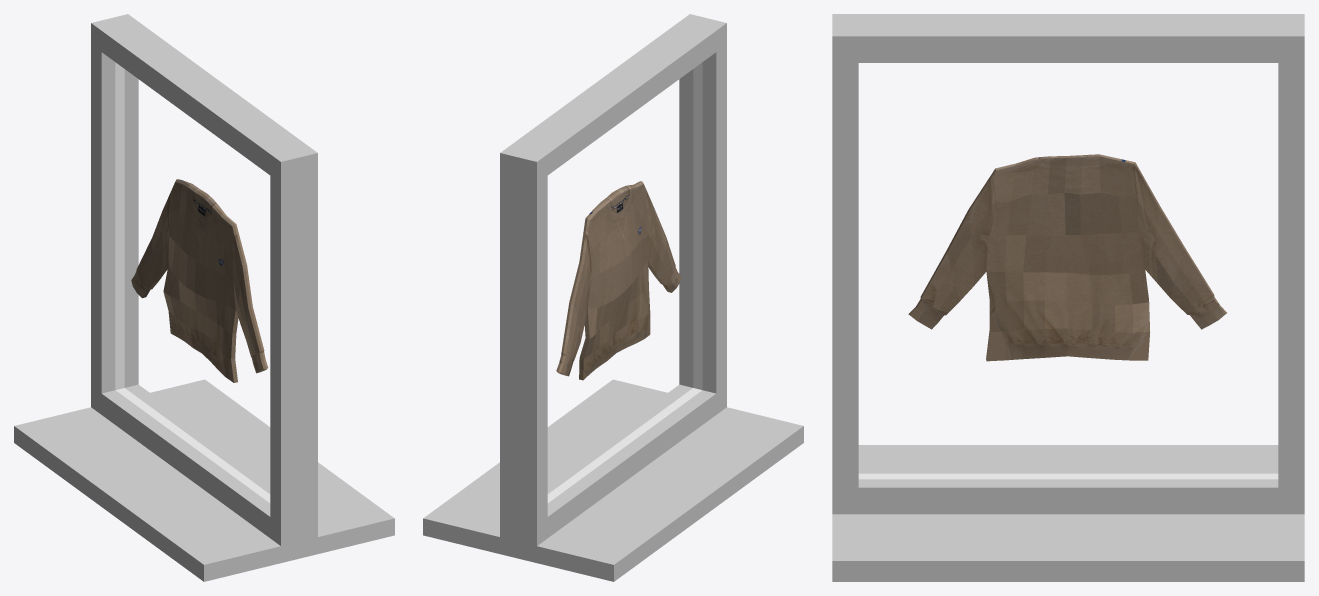
File: crewneck.glb
3 views of the same model, side by side, from view 1: azimuth 30°, elevation 25°; view 2: azimuth 150°, elevation 25°; view 3: azimuth 270°, elevation 25° (orthographic). The views are drawn at different scales.
Visible parts, largest first — view 1: Cube.030, Plane.026; view 2: Cube.030, Plane.026; view 3: Cube.030, Plane.026.
Part boxes in pixels (x1,y1,x2,y2): Cube.030: [14, 14, 394, 581]; Plane.026: [131, 179, 268, 382]; Cube.030: [423, 14, 803, 581]; Plane.026: [556, 181, 680, 380]; Cube.030: [832, 14, 1304, 581]; Plane.026: [908, 154, 1226, 361].
Bounding box in the file's own units: 0.362 × 0.7276 × 0.6242.
Materials: 3 (1 with a texture image).
